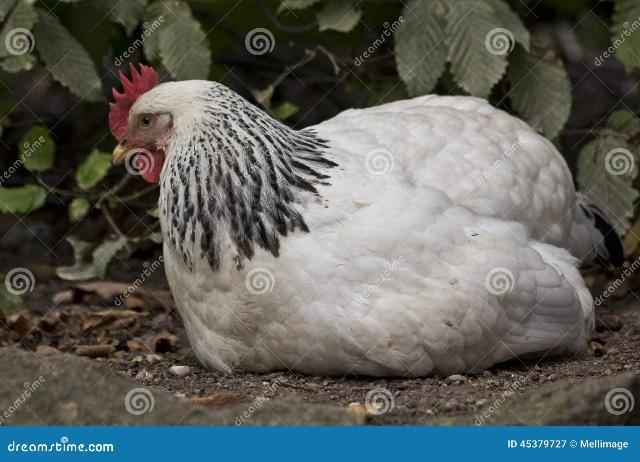Chicken: (107, 57, 624, 383)
